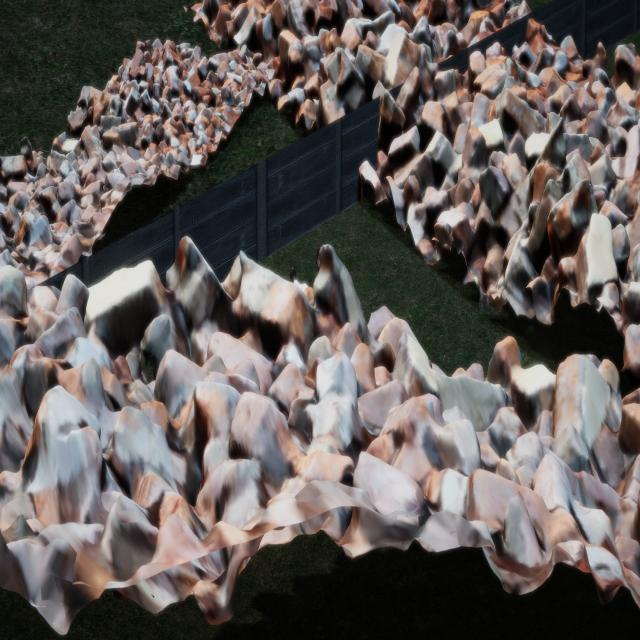Human: (285, 254, 305, 291)
